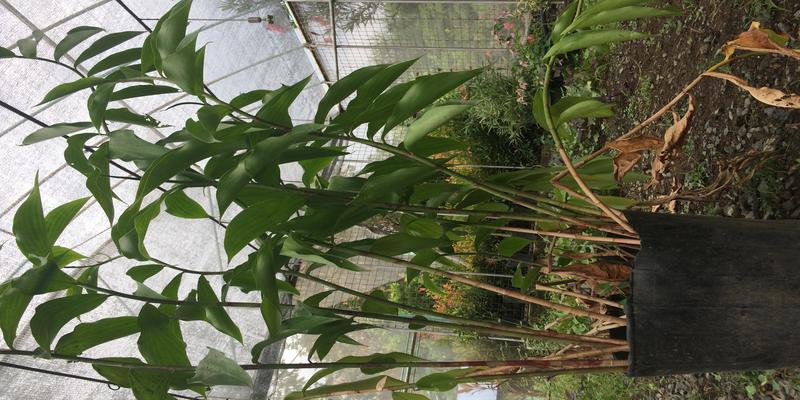Insulin: (34, 63, 622, 387)
